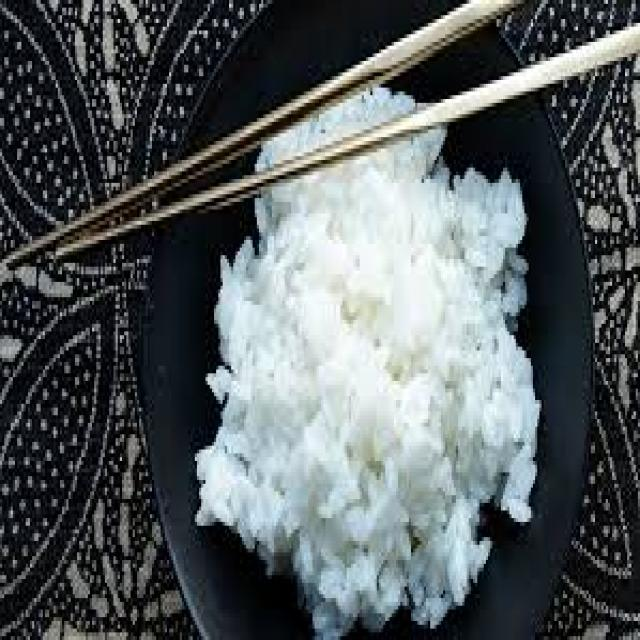White Rice: (216, 114, 546, 630)
